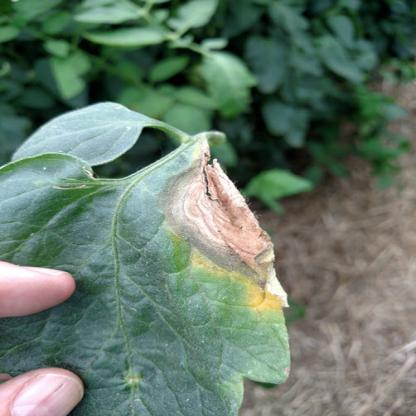tomato mold leaf: (1, 98, 297, 415)
